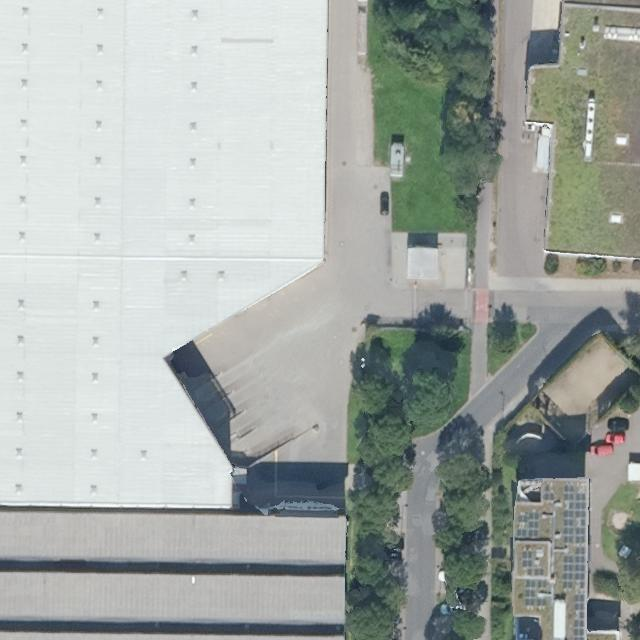PV: (562, 482, 588, 639), (514, 508, 542, 540), (523, 578, 550, 609), (542, 480, 557, 502), (520, 547, 535, 568), (523, 566, 547, 577)
